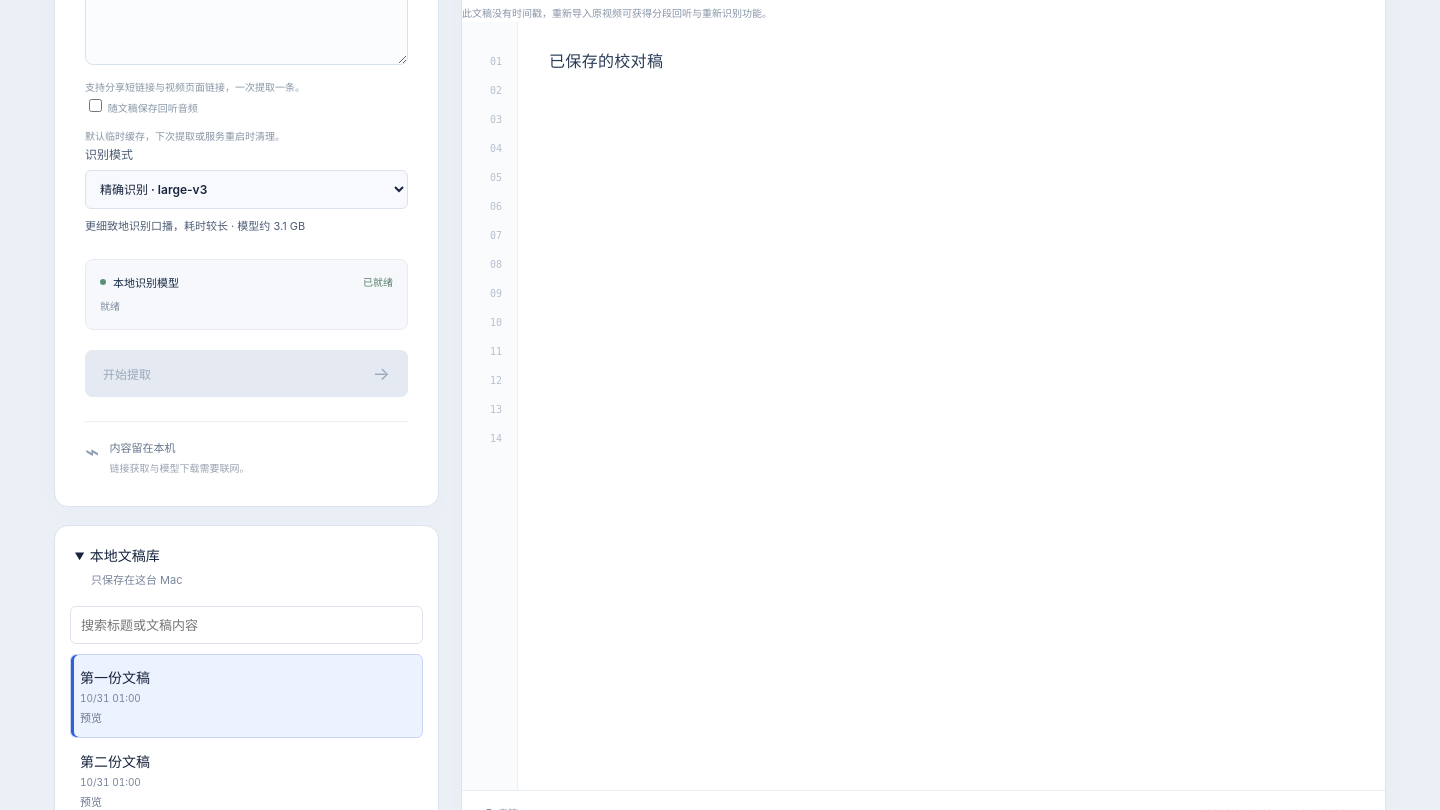
Test: allows explicit reload after conflict and retains the immutable original
The image size is (1440, 810).
Later steps or results of the test are not shown.
(page scrolled)
Replace the text in the text box named "文稿全文" with "本地冲突稿" at (952, 406), box [518,22,1385,790]
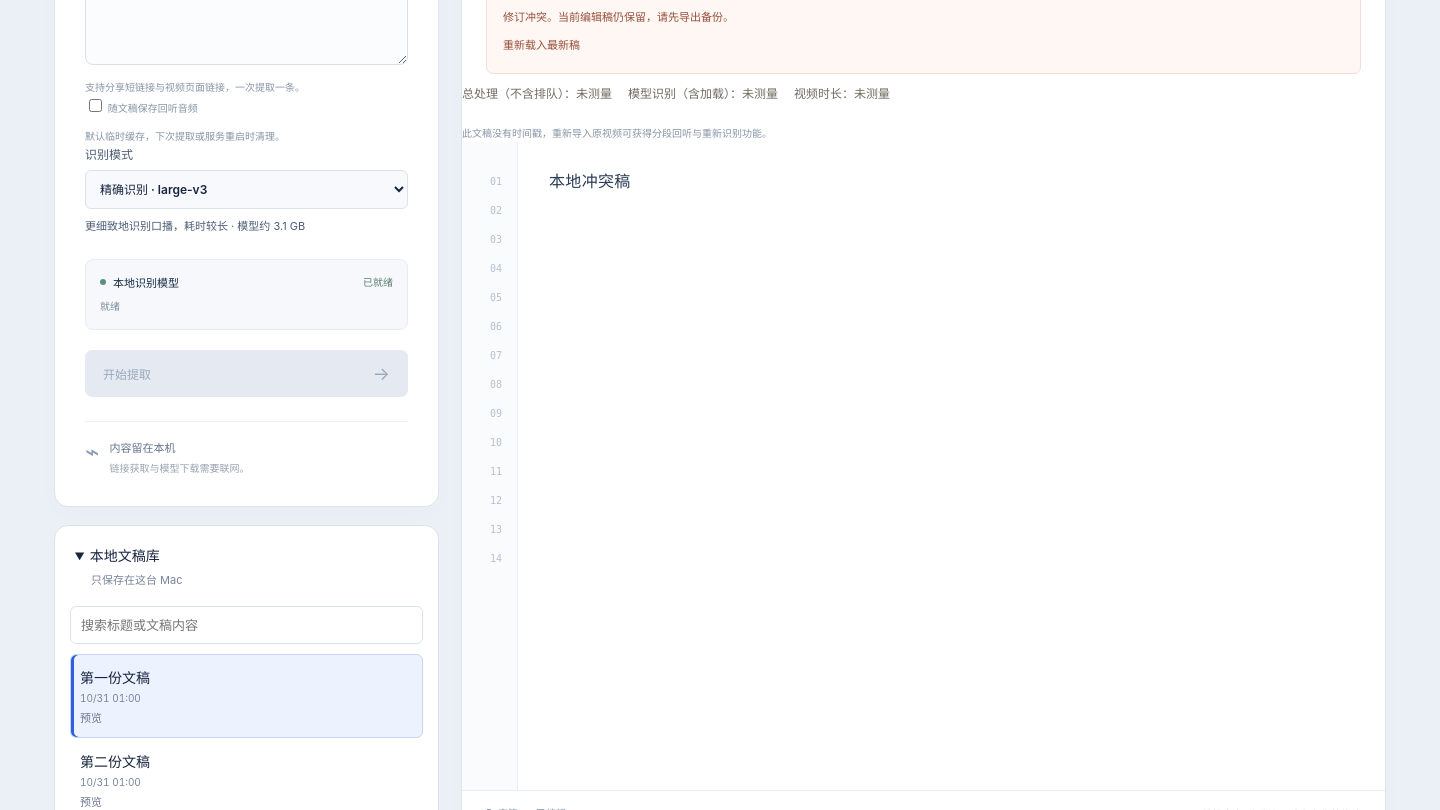
Click the button "重新载入最新稿".
click(544, 46)  # box [503,31,584,60]
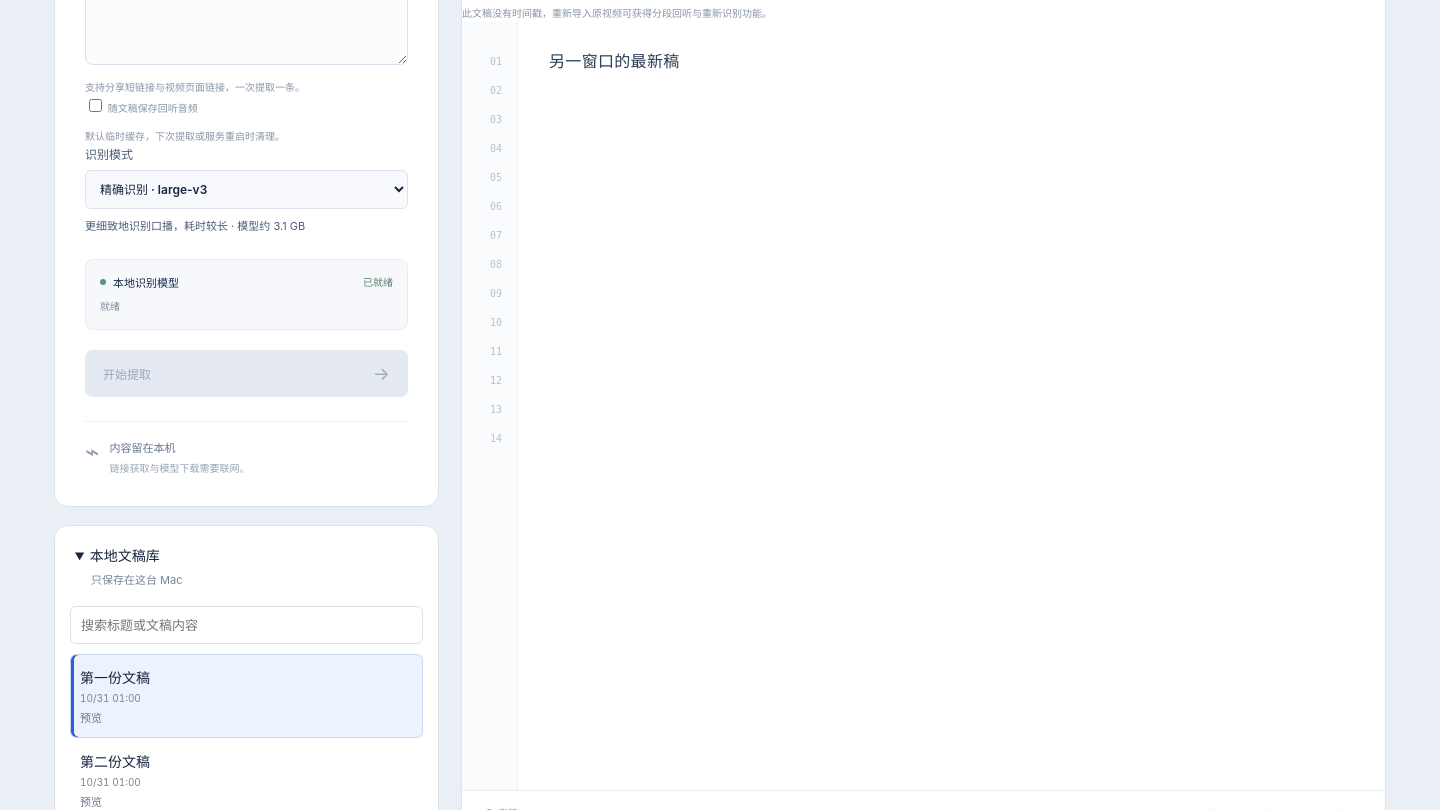
Check: the text box named "文稿全文" holds "另一窗口的最新稿", box [518,22,1385,790]
